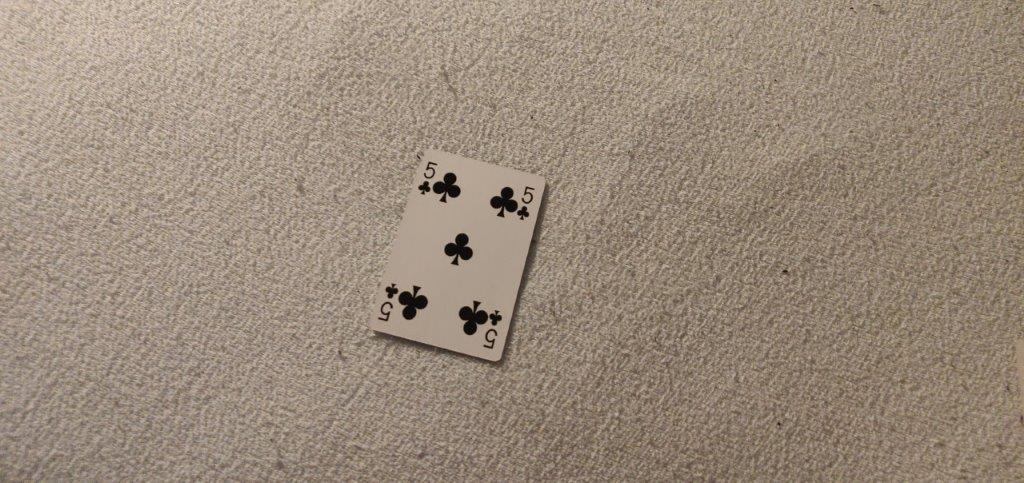5C: (416, 156, 439, 199), (515, 183, 535, 227)
